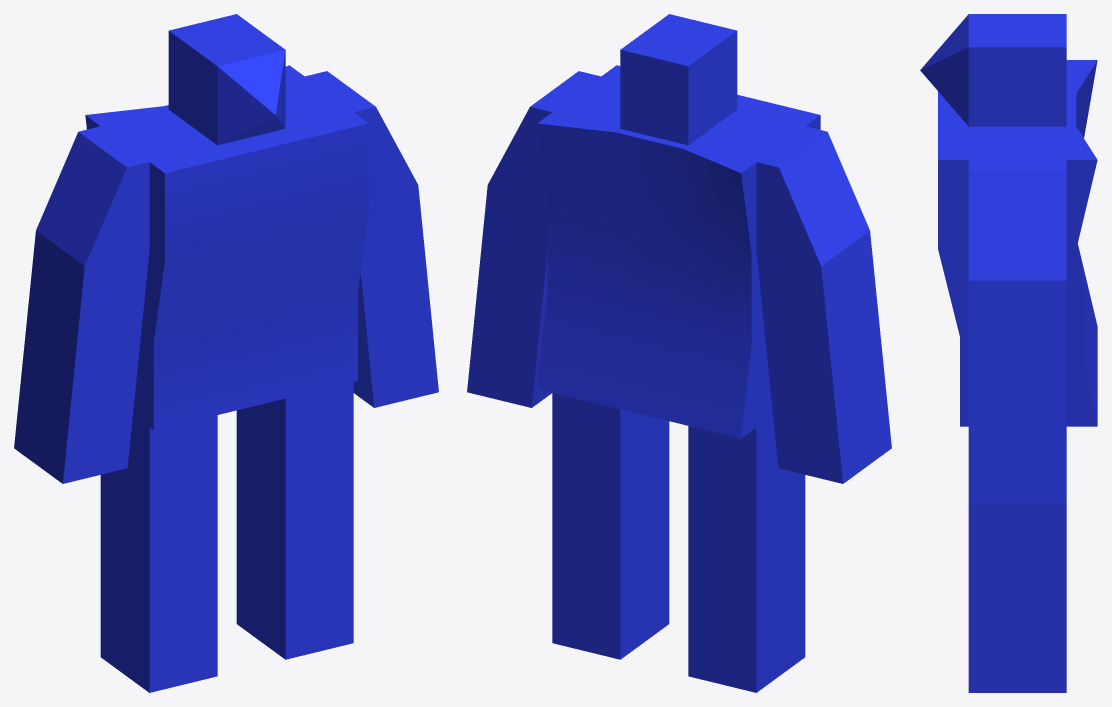
The model's file is Human.FBX.
3 views of the same model, side by side, from view 1: azimuth 30°, elevation 25°; view 2: azimuth 150°, elevation 25°; view 3: azimuth 270°, elevation 25° (orthographic).
Parts seen in each view (by area): view 1: Box001; view 2: Box001; view 3: Box001.
Part boxes in pixels (x1,y1,x2,y2): Box001: (14, 14, 438, 692); Box001: (467, 14, 891, 692); Box001: (920, 14, 1097, 692).
Size of the model in its own units: 10.22 by 15.83 by 4.15.
Materials: 1 (1 with a texture image).
